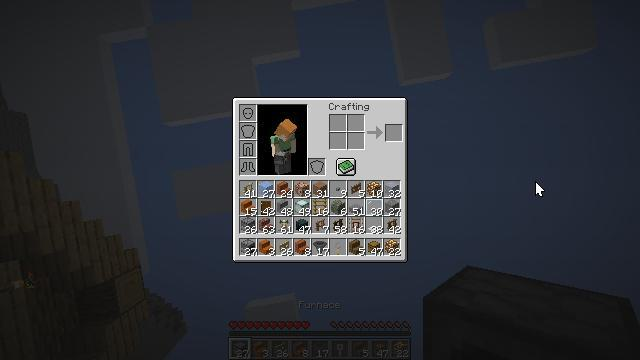cursor: (535, 181, 545, 197)
